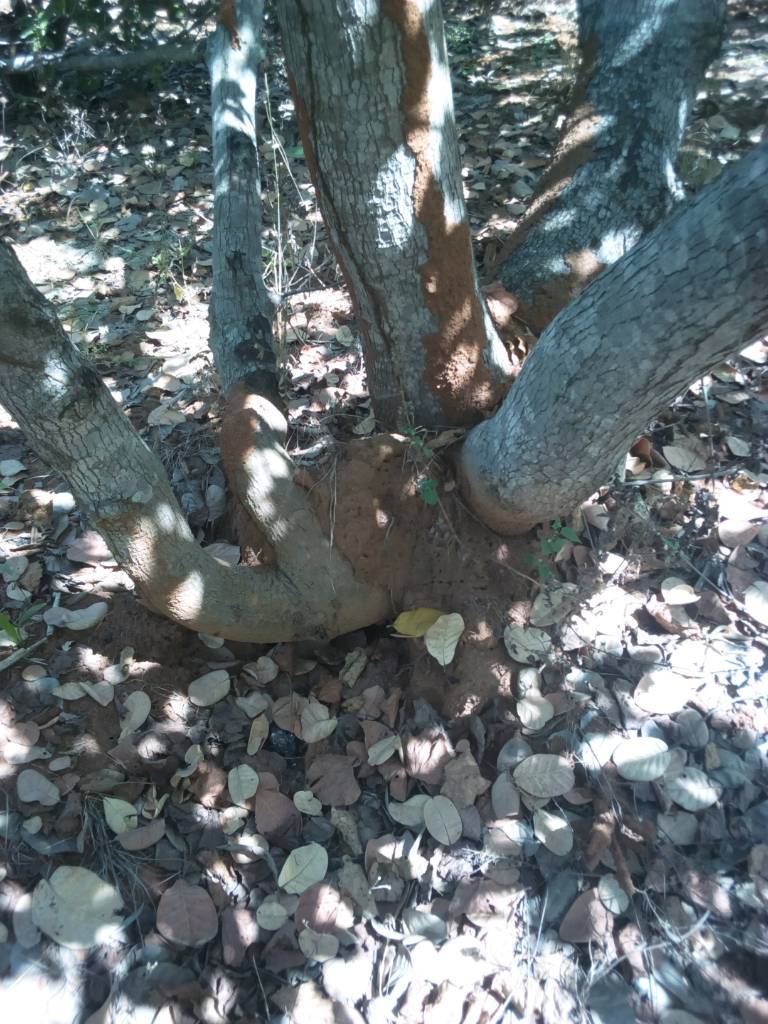Termites: (385, 10, 500, 405), (327, 444, 511, 607), (119, 535, 277, 639), (222, 385, 261, 503)
